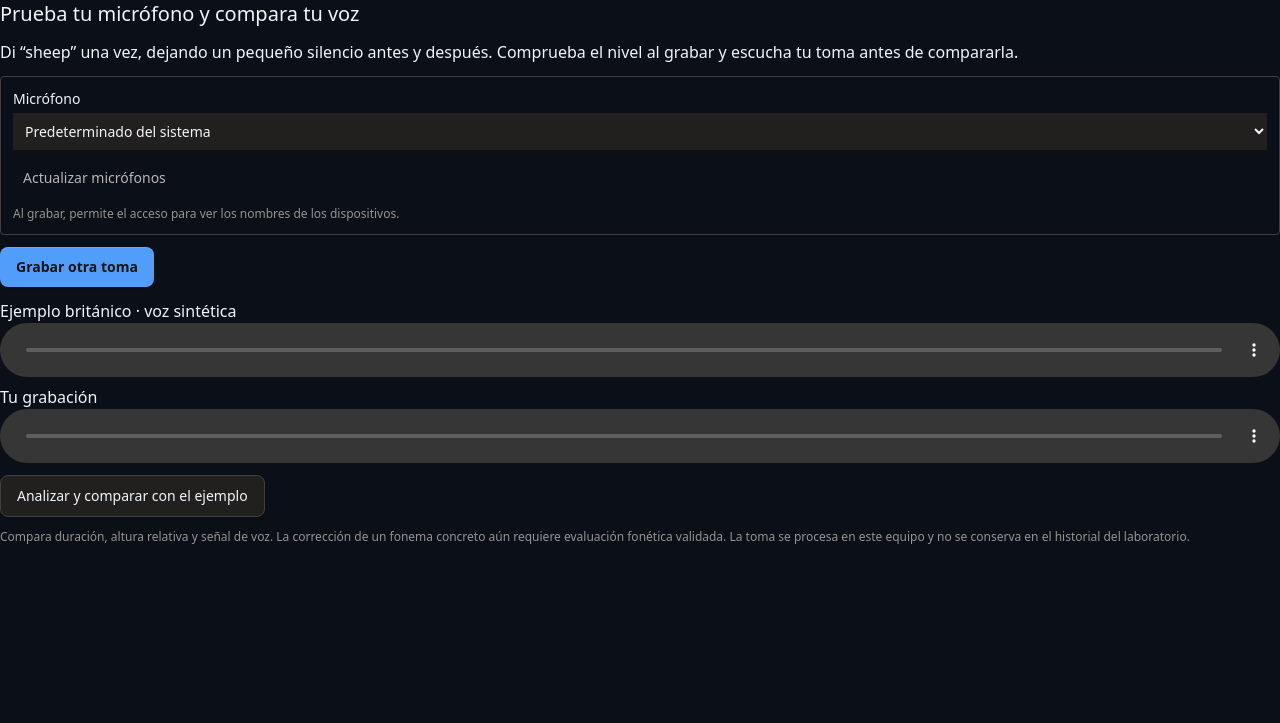
Test case: uploads the recorded take for this lesson and explains a silent microphone
Click the button "Analizar y comparar con el ejemplo": (132, 496) 0,475 -> 265,517
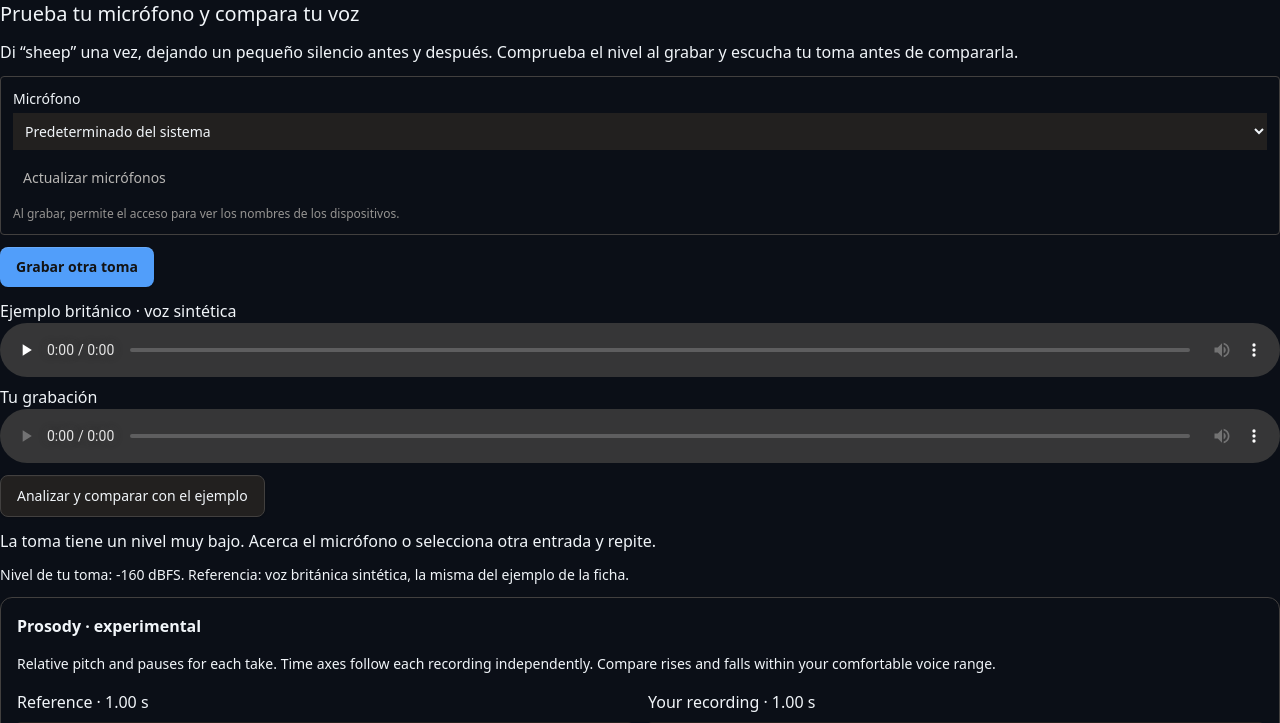
Check: the text "La toma tiene un nivel muy bajo" is shown, box 0,530 -> 656,552
